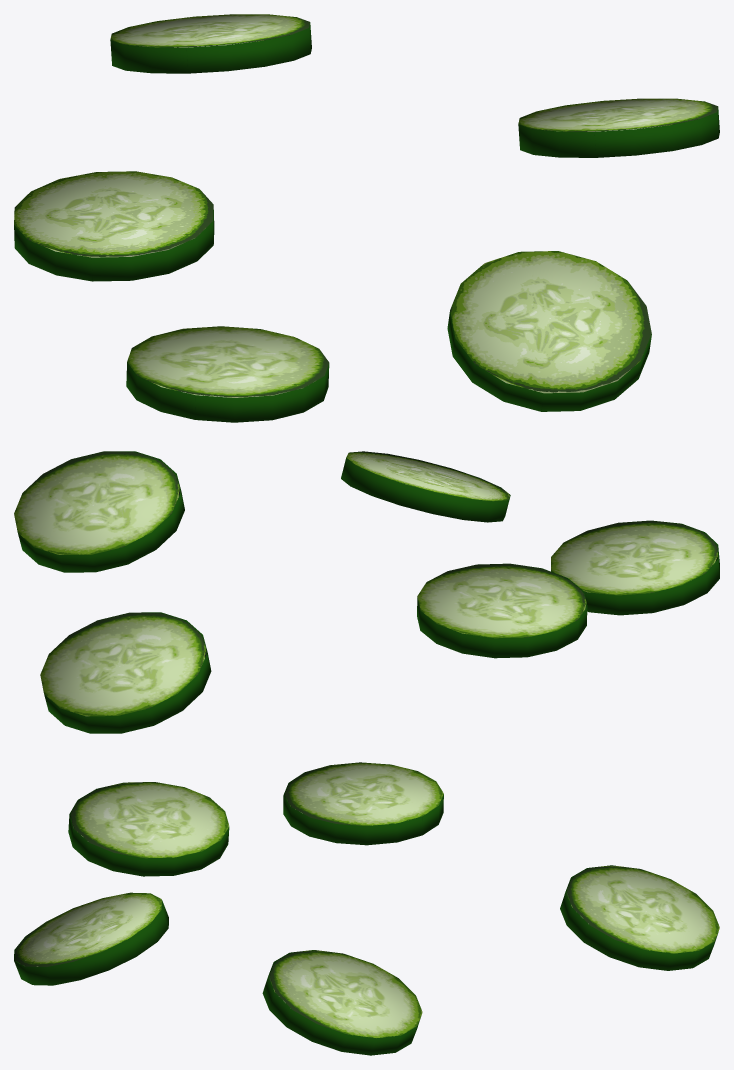
The model's file is Plate_Cucumber.fbx.
3 renders of one model, top to bottom at view 1: azimuth 30°, elevation 25°; view 2: azimuth 150°, elevation 25°; view 3: azimuth 270°, elevation 25°, orthographic. The views are drawn at different scales.
Visible parts, largest first — view 1: Plate.Cucumber; view 2: Plate.Cucumber; view 3: Plate.Cucumber.
Part boxes in pixels (box(x1,y1,x2,y2)): Plate.Cucumber: box(14, 14, 719, 422); Plate.Cucumber: box(14, 451, 719, 733); Plate.Cucumber: box(14, 762, 719, 1055).
Size of the model in its own units: 44.27 by 6.88 by 49.62.
1 material, 1 textured.
